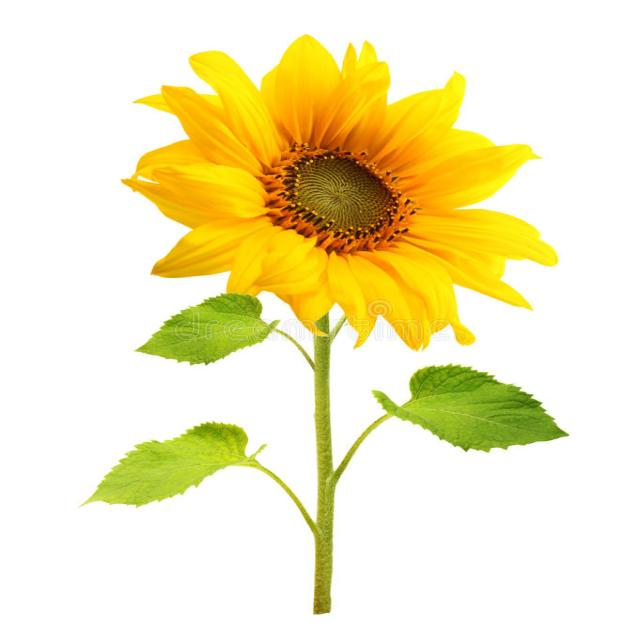sunflower: (102, 19, 572, 357)
